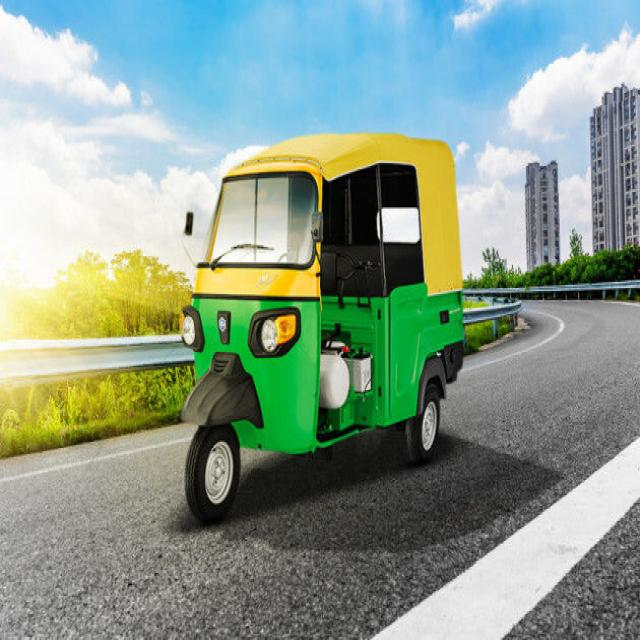autorickshaw: (181, 133, 464, 522)
